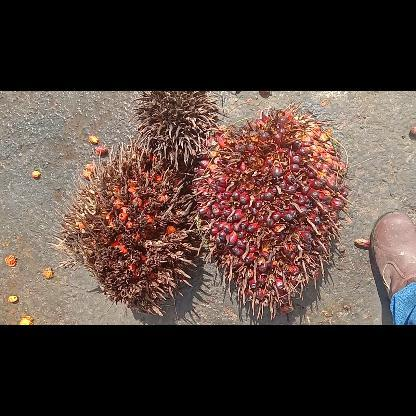Janjang kosong: (130, 90, 219, 170)
TBS masak: (190, 102, 352, 320)
Terlalu masak: (50, 135, 202, 314)
